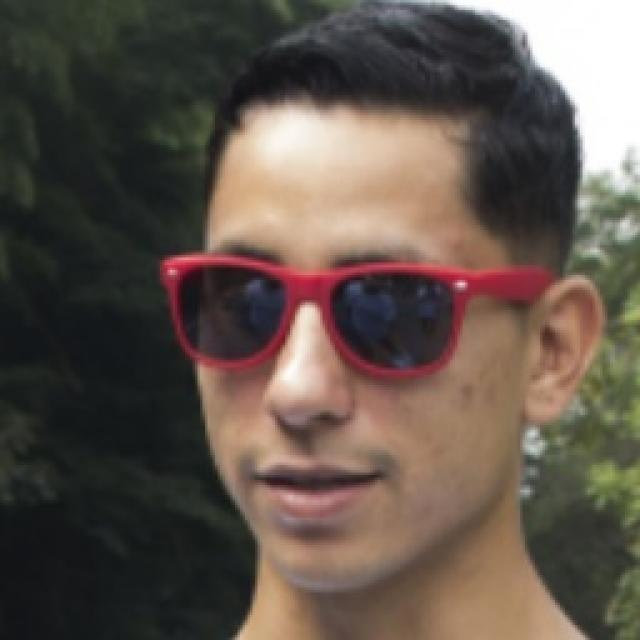glasses: (154, 226, 544, 394)
